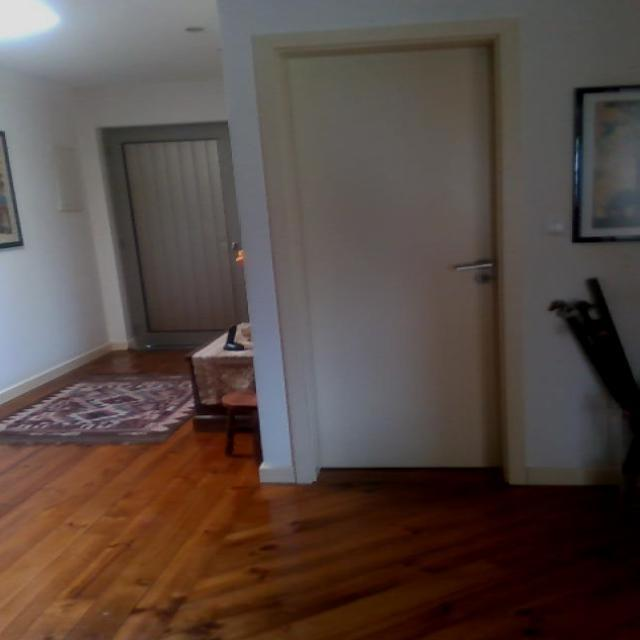door: (274, 36, 502, 472)
